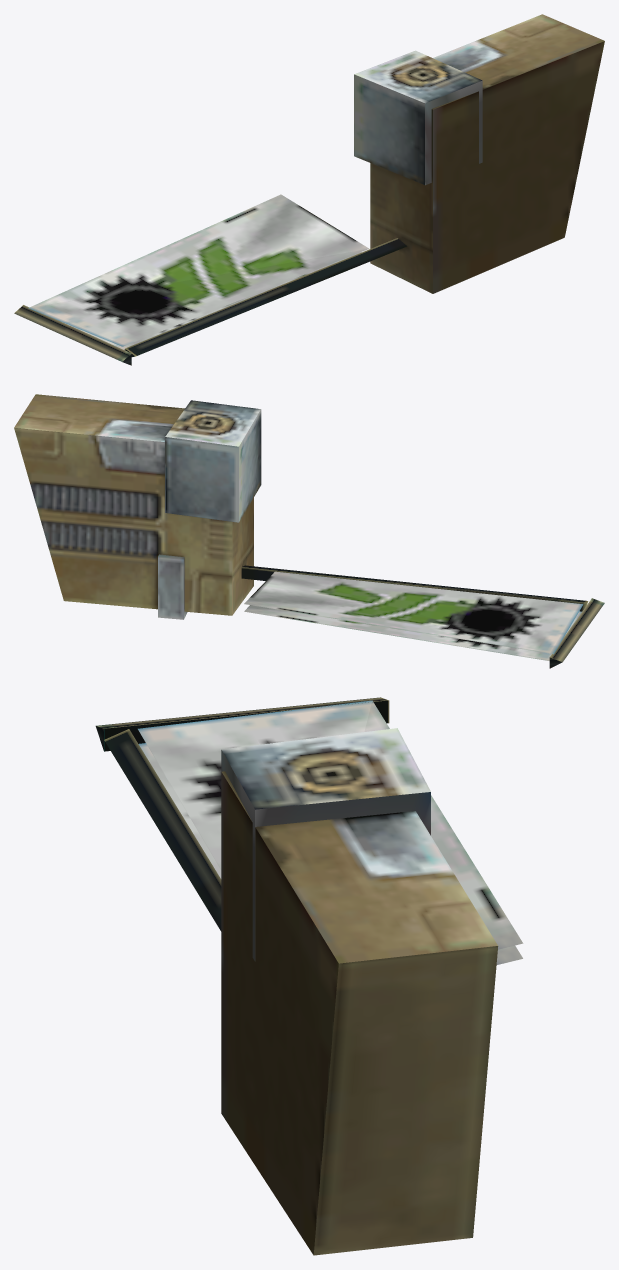
The model's file is SCHAINPACK_H.obj.
3 renders of one model, top to bottom at view 1: azimuth 30°, elevation 25°; view 2: azimuth 150°, elevation 25°; view 3: azimuth 270°, elevation 25°, orthographic. The views are drawn at different scales.
Visible parts, largest first — view 1: Node 0; view 2: Node 0; view 3: Node 0.
Part boxes in pixels (x1=…): Node 0: x1=14, y1=14, x2=604, y2=365; Node 0: x1=14, y1=394, x2=604, y2=668; Node 0: x1=95, y1=697, x2=523, y2=1255.
Size of the model in its own units: 1.48 by 0.48 by 0.51.
Materials: 1 (1 with a texture image).
